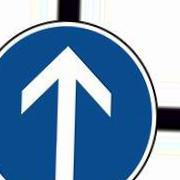forward: (1, 23, 157, 180)
